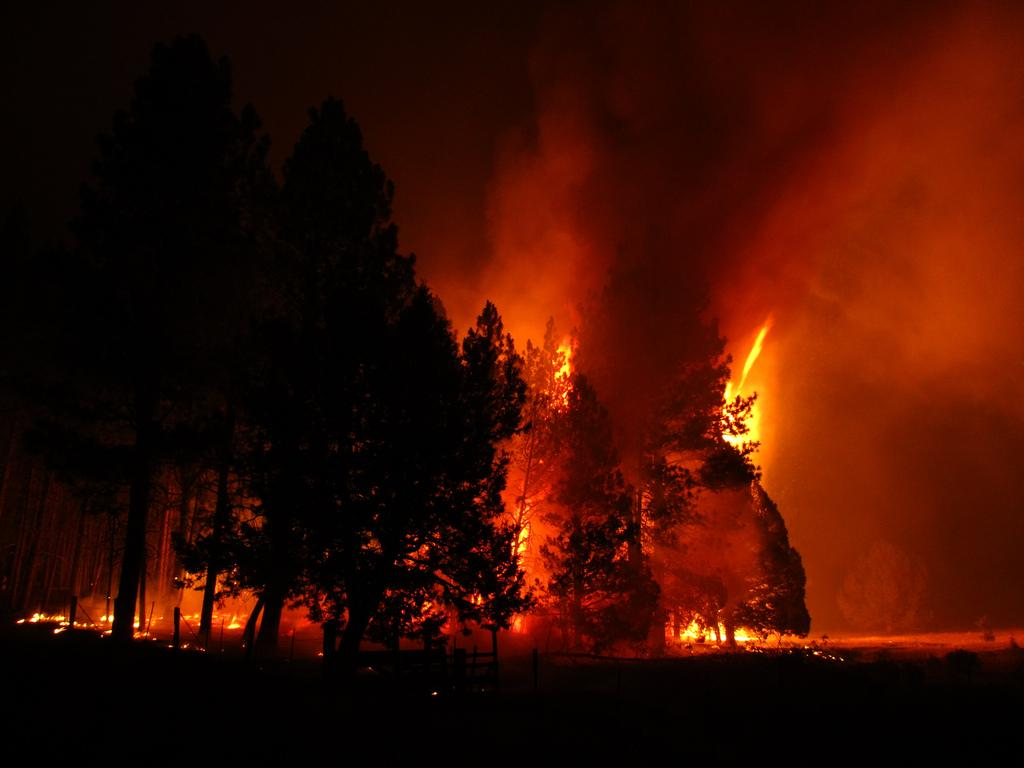fire: (732, 346, 780, 454)
